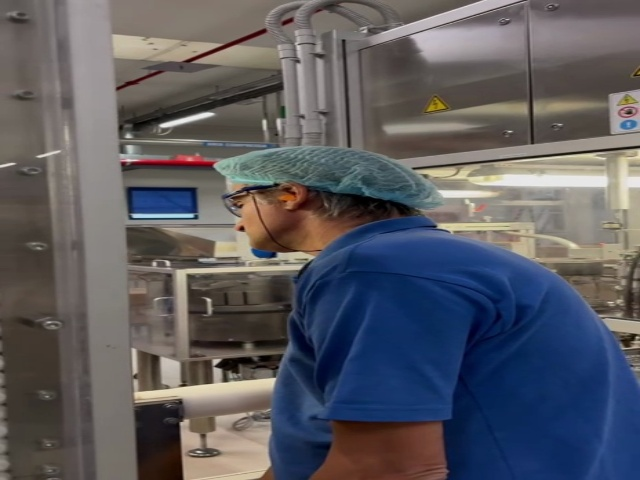Earplug: (275, 182, 308, 211)
Hairnet: (214, 145, 442, 207)
No_Helmet: (219, 146, 434, 188)
No_Vest: (275, 233, 632, 480)
Person: (215, 147, 640, 480)
Safety_Goggles: (219, 184, 279, 216)
